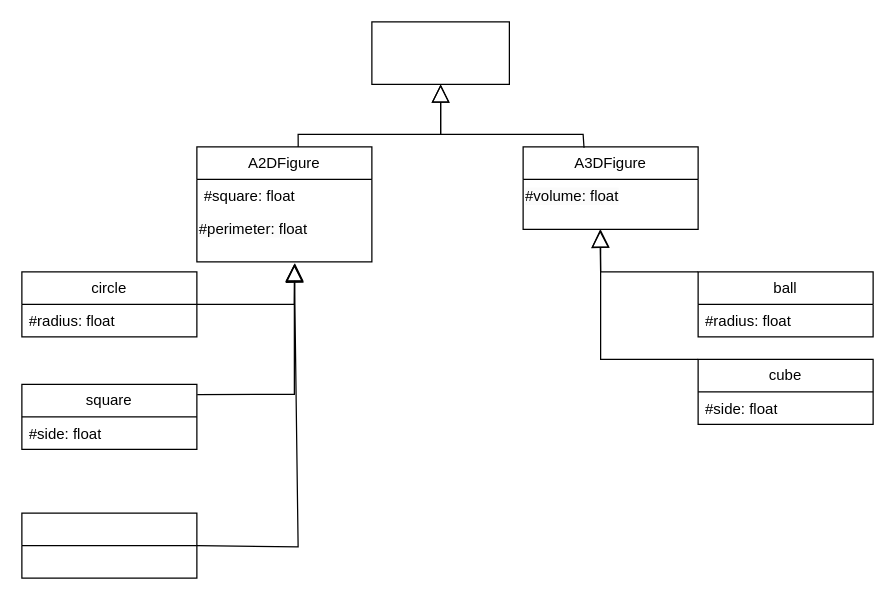
This 895x600 diagram has some shape labels left out. The centre of each missing label's shape, as x and y in pixels:
"AFigurе" goes at (x=440, y=52).
"triangle" goes at (x=109, y=545).
